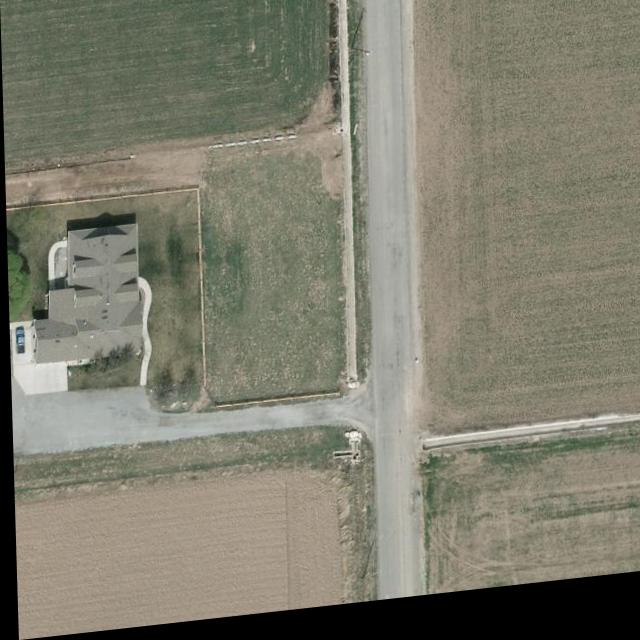vehicle: (13, 327, 26, 356)
